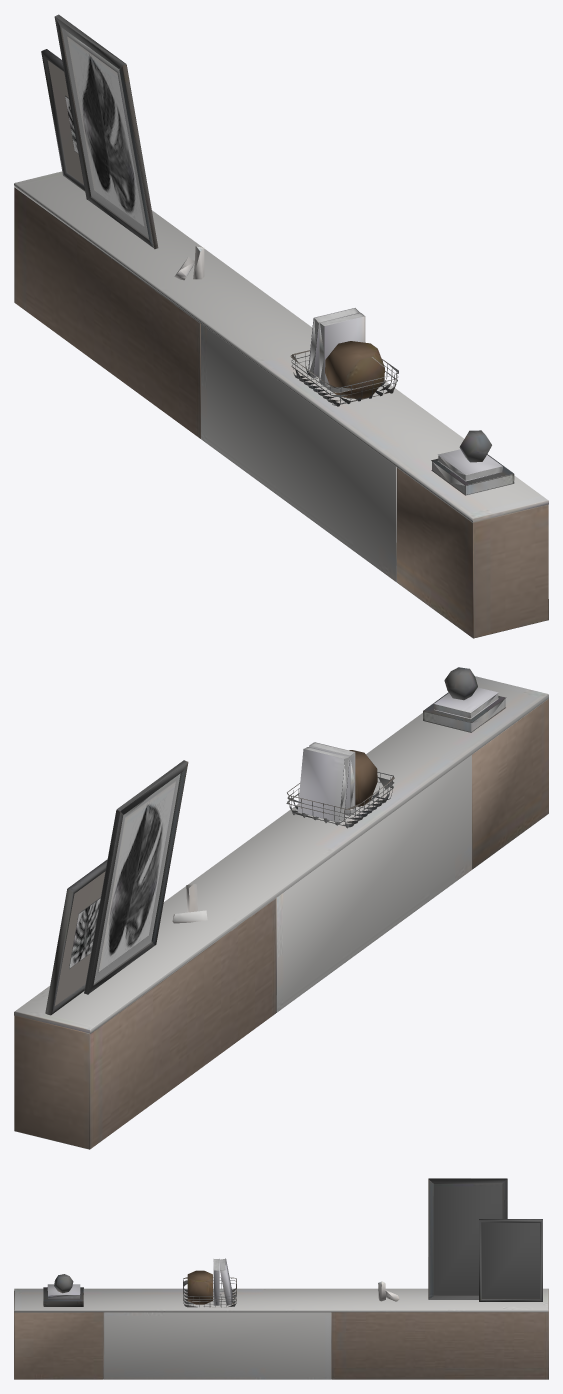
File: Cupboard0003.obj
3 views of the same model, one above another, from view 1: azimuth 30°, elevation 25°; view 2: azimuth 150°, elevation 25°; view 3: azimuth 270°, elevation 25° (orthographic). The views are drawn at different scales.
Bounding box in the file's own units: 0.312 × 1.22 × 3.26.
1 material, 1 textured.
